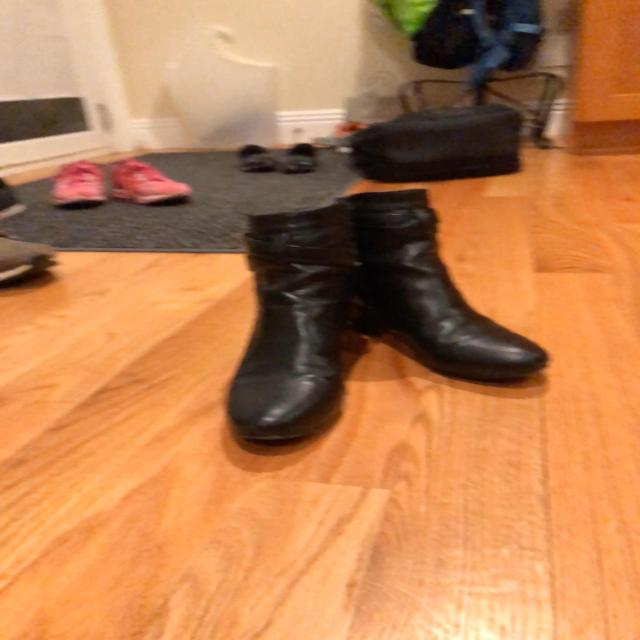shoe: (354, 203, 554, 367), (223, 217, 348, 435)
